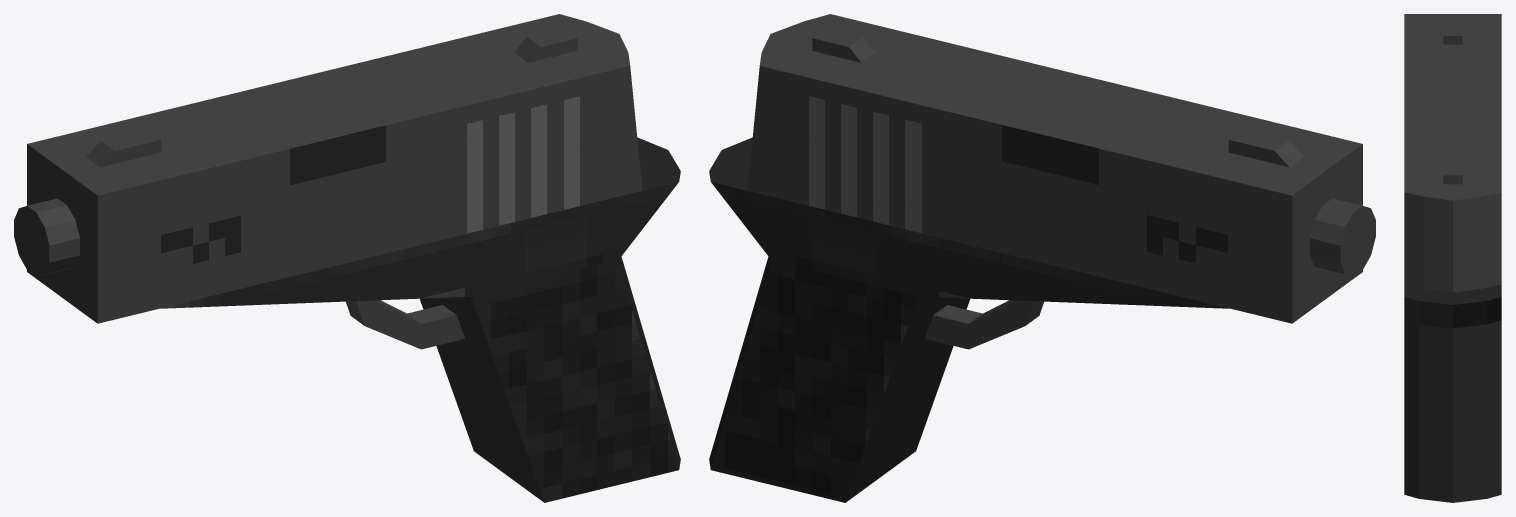
The model's file is Gun.gltf.
3 renders of one model, left to right at view 1: azimuth 30°, elevation 25°; view 2: azimuth 150°, elevation 25°; view 3: azimuth 270°, elevation 25°, orthographic. The views are drawn at different scales.
Parts seen in each view (by area): view 1: GunTop, GunBase, Barrel, cube; view 2: GunTop, GunBase, Barrel, cube; view 3: GunTop, GunBase.
Boxes of the visible parts, x1,y1,x2,y2 form: GunTop: (27,14,642,323); GunBase: (160,137,680,502); Barrel: (14,198,79,276); cube: (346,300,464,349); GunTop: (747,14,1362,323); GunBase: (709,137,1229,502); Barrel: (1310,198,1375,276); cube: (925,300,1043,349); GunTop: (1404,14,1501,292); GunBase: (1404,284,1501,502).
Bounding box in the file's own units: 0.4333 × 0.2792 × 0.0833.
